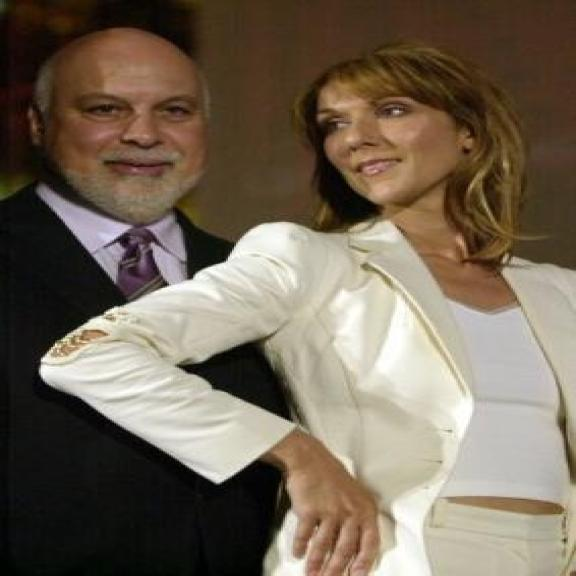face: (24, 51, 214, 216), (317, 81, 496, 210)
